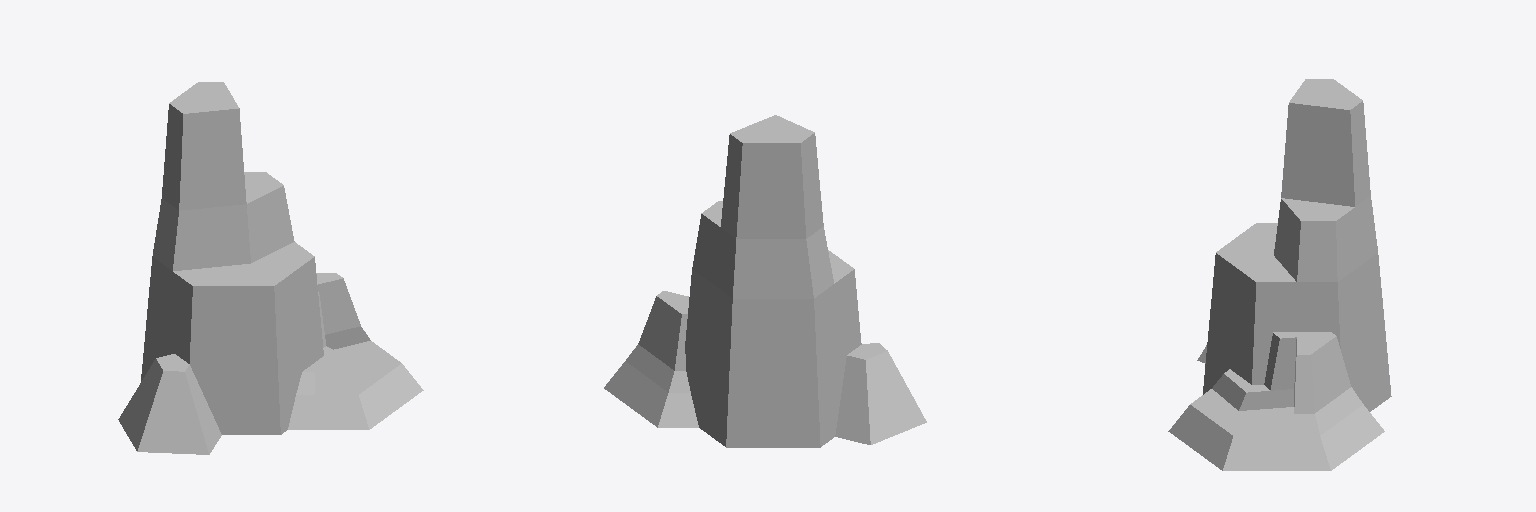
Rendered from formationLarge_rock.obj.
The picture shows the model from 3 angles: view 1: azimuth 30°, elevation 25°; view 2: azimuth 150°, elevation 25°; view 3: azimuth 270°, elevation 25°; orthographic projection.
Visible parts, largest first — view 1: formationLarge_rock; view 2: formationLarge_rock; view 3: formationLarge_rock.
Boxes of the visible parts, x1=… form: formationLarge_rock: x1=118, y1=82, x2=423, y2=454; formationLarge_rock: x1=604, y1=115, x2=926, y2=447; formationLarge_rock: x1=1168, y1=79, x2=1391, y2=470.
Bounding box in the file's own units: 13.62 × 13.8 × 9.47.